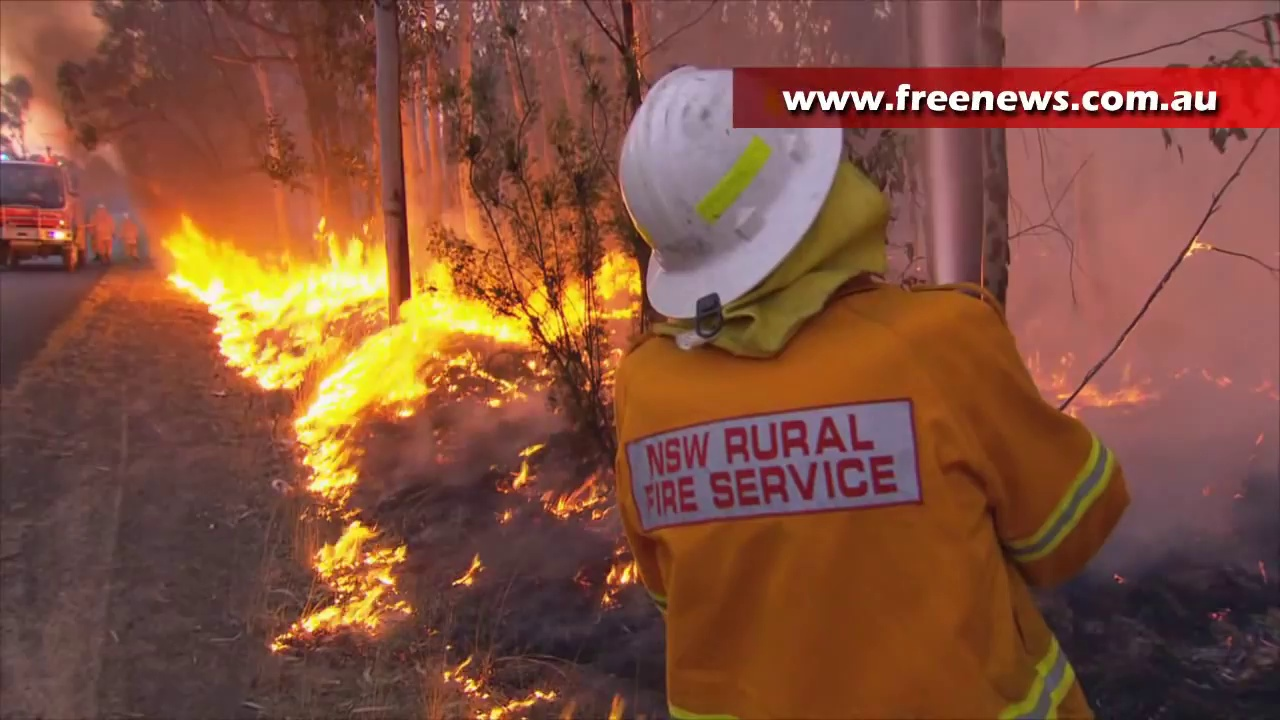fire: (162, 216, 390, 387), (393, 257, 637, 384), (289, 524, 409, 639), (294, 389, 425, 494), (444, 670, 548, 720), (553, 470, 615, 521), (1067, 380, 1144, 404), (607, 555, 635, 583)
